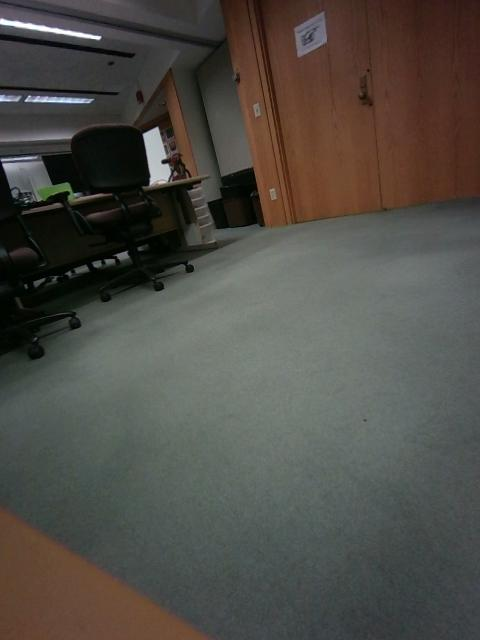block: (253, 306, 308, 357)
